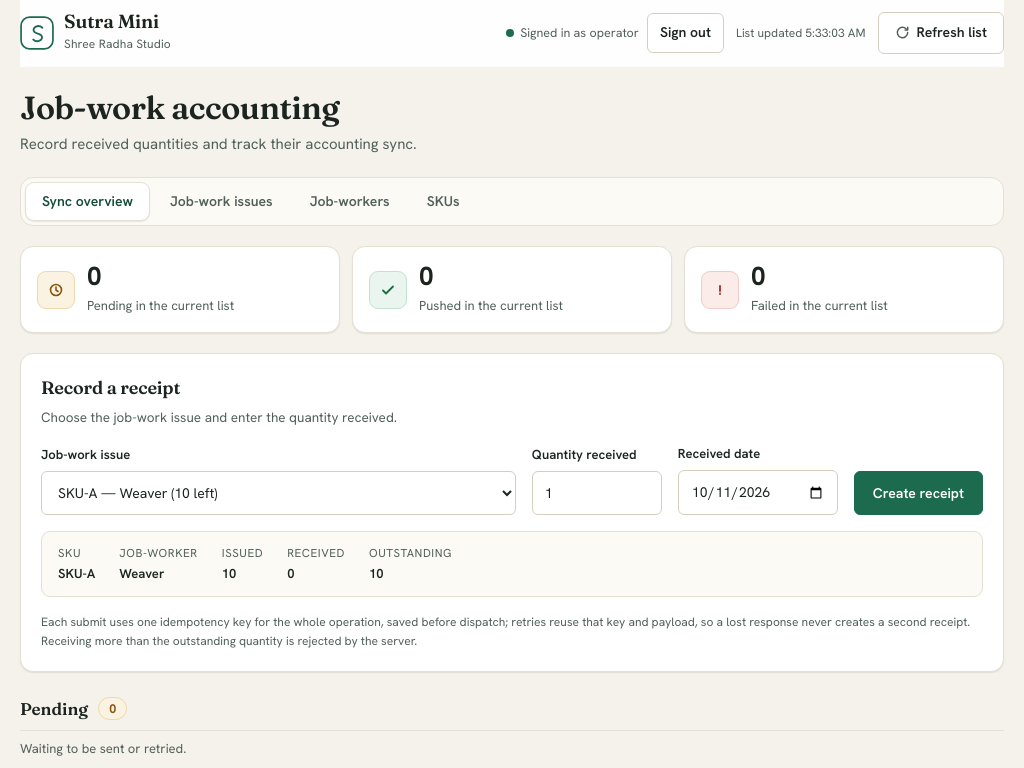
Test: SyncPage refresh list › renders changed data and announces an update
The image size is (1024, 768).
Click the button "Refresh list": (941, 33) [878,12,1004,54]
Wait 10 ms
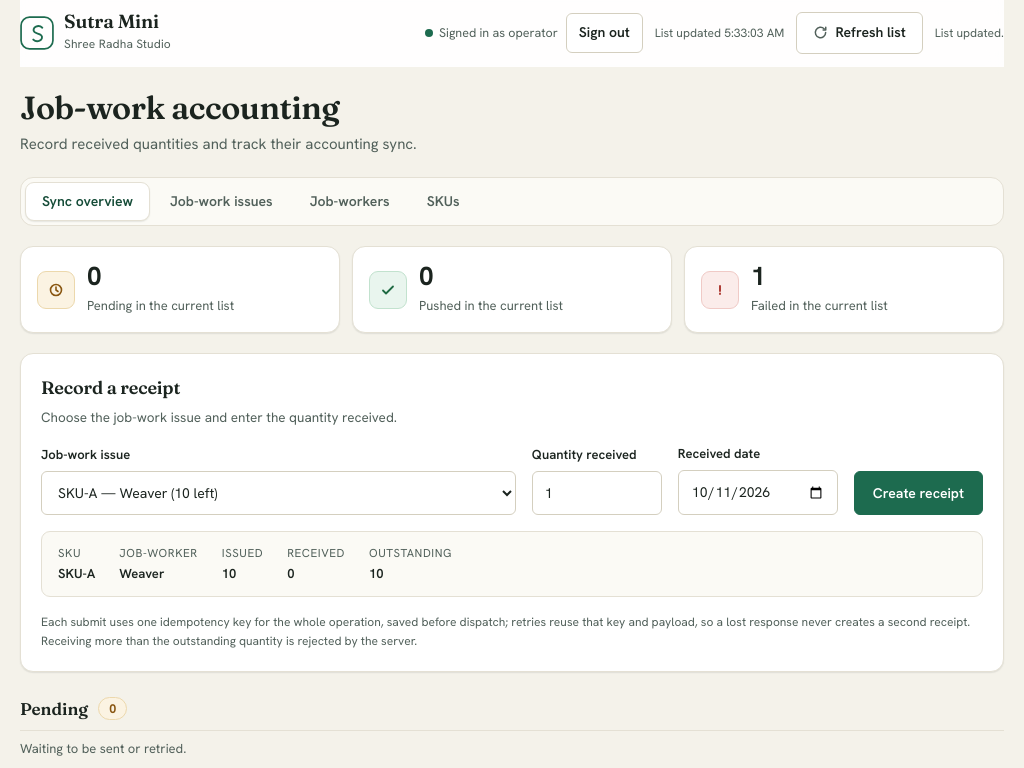
expect the text "List updated." is shown: met, box [935,24,1004,42]
